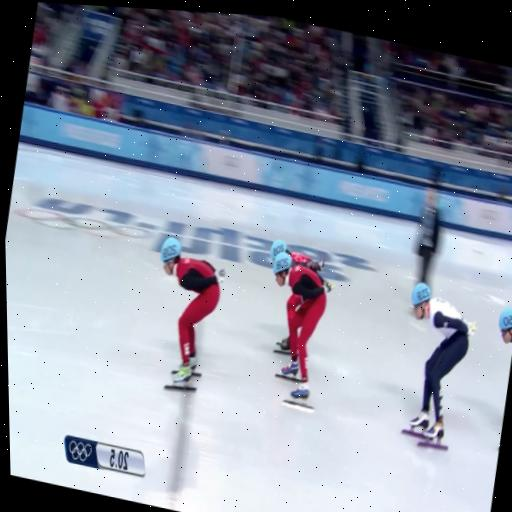Skater: (401, 283, 475, 449), (159, 238, 225, 390), (272, 252, 331, 400), (269, 239, 324, 273), (498, 308, 511, 344)
